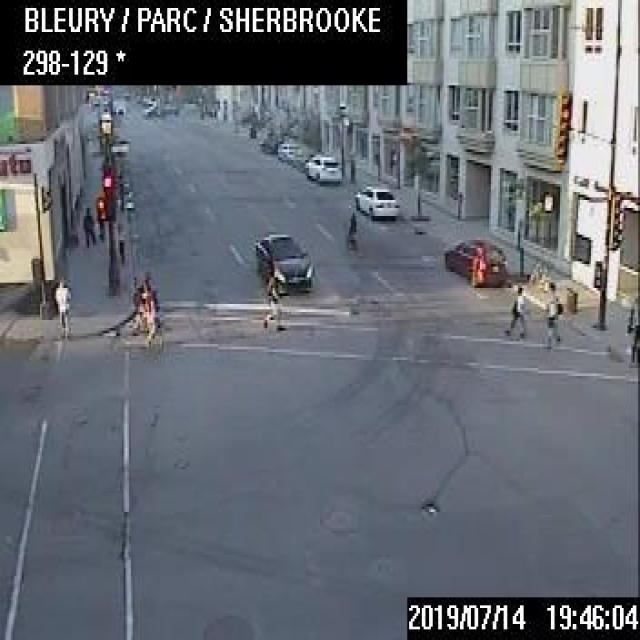pedestrian: (542, 280, 564, 344), (261, 270, 284, 330), (503, 282, 526, 338), (52, 277, 70, 336), (624, 294, 638, 366), (143, 288, 158, 346), (345, 209, 357, 254), (82, 203, 94, 246), (114, 220, 124, 259)
vehicle: (252, 227, 312, 293), (442, 235, 505, 288), (352, 181, 398, 219), (304, 150, 342, 184), (275, 140, 300, 159), (111, 133, 129, 155), (289, 148, 307, 169), (114, 100, 124, 113)
